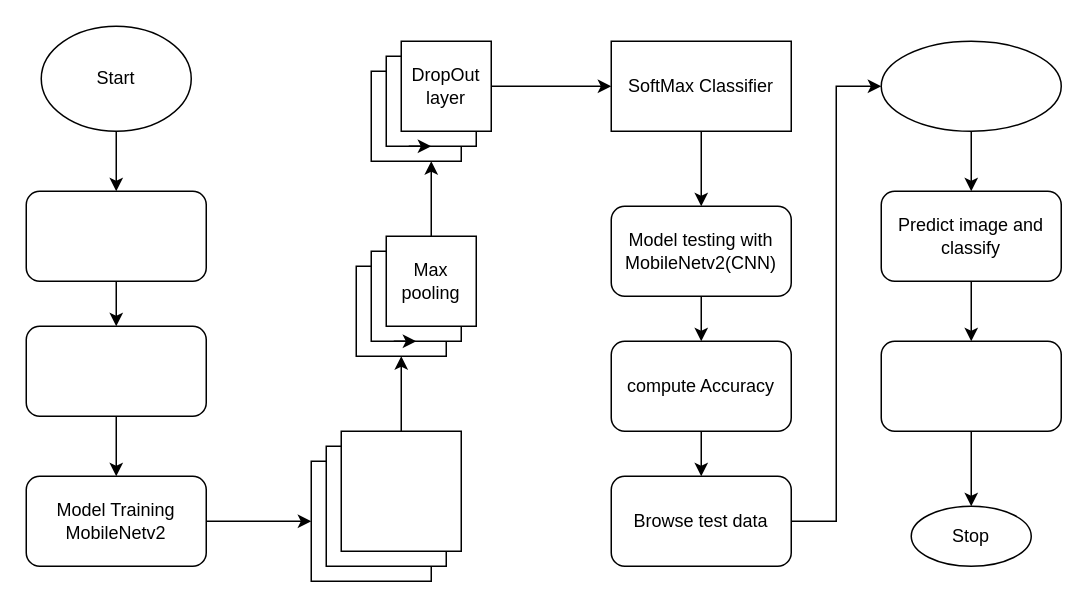
This 1088x608 diagram has some shape labels left out. Each missing label, with the centre of its shape:
"Convolution Layer" goes at point 400,490.
"Dataset Preprocessing" goes at point 115,235.
"Output for predicted image name with calories" goes at point 970,385.
"Split Dataset into train Set ,test Set and,validation Set" goes at point 115,370.
"Start Streamlit" goes at point 970,85.
